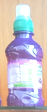blueberries: (5, 4, 45, 107)
